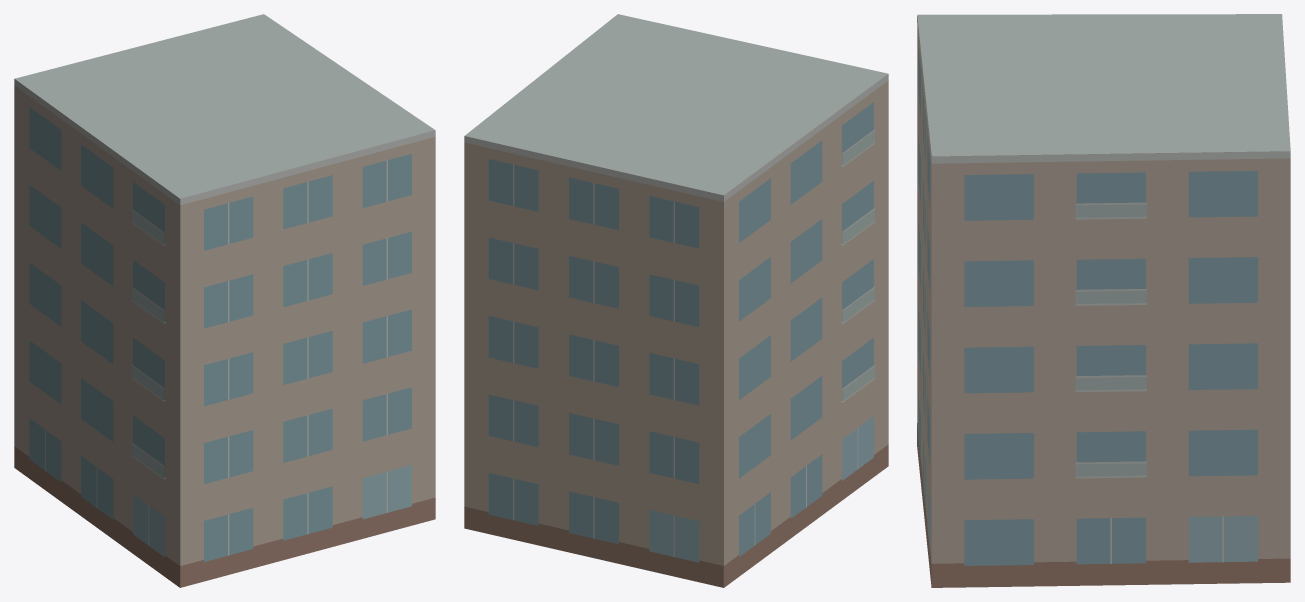
The model's file is survey-upis-32769800.glb.
3 views of the same model, side by side, from view 1: azimuth 30°, elevation 25°; view 2: azimuth 150°, elevation 25°; view 3: azimuth 270°, elevation 25° (orthographic). The views are drawn at different scales.
Parts seen in each view (by area): view 1: survey-upis-32769800.tmp; view 2: survey-upis-32769800.tmp; view 3: survey-upis-32769800.tmp.
Boxes of the visible parts, box(x1,y1,x2,y2) form: survey-upis-32769800.tmp: box(14, 14, 435, 587); survey-upis-32769800.tmp: box(464, 14, 888, 587); survey-upis-32769800.tmp: box(917, 14, 1290, 587).
Size of the model in its own units: 10.27 by 14.5 by 11.39.
